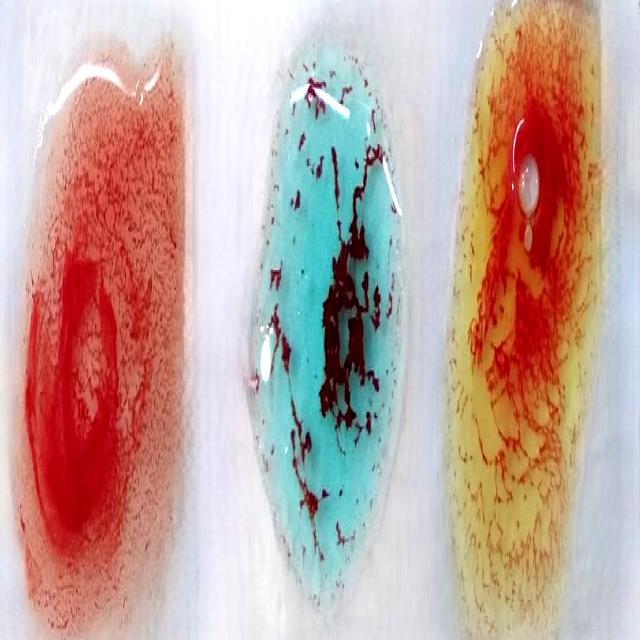A: (256, 51, 409, 608)
B: (445, 23, 606, 629)
D: (30, 70, 171, 632)
